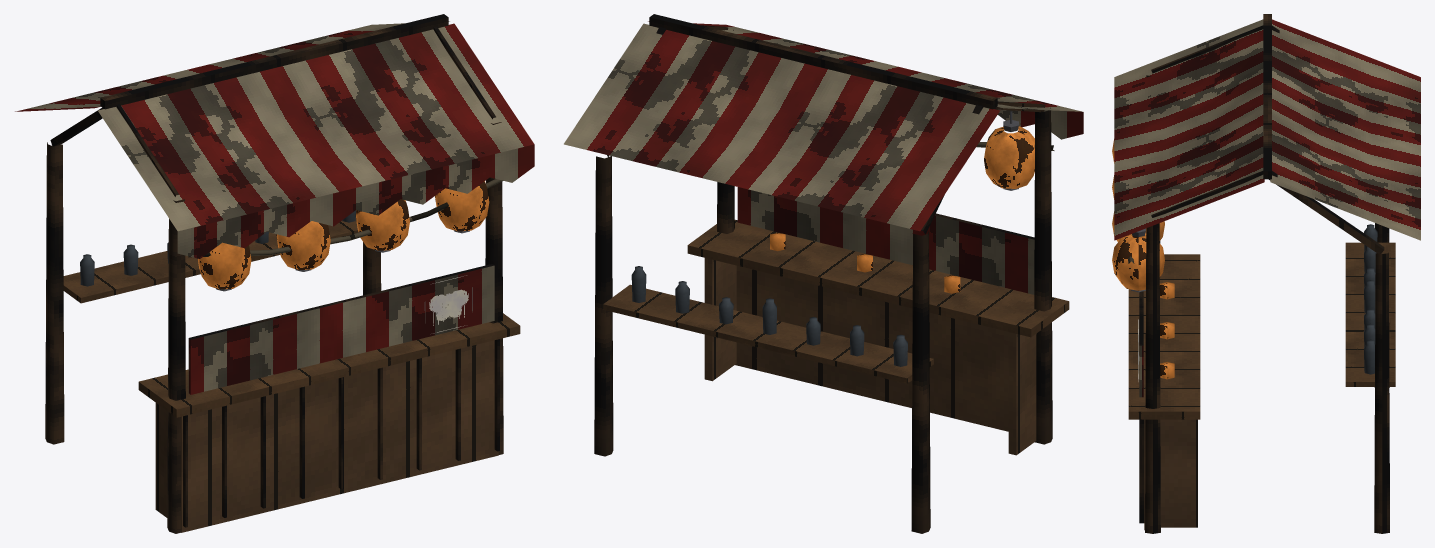
The model's file is festival_stall.glb.
3 renders of one model, left to right at view 1: azimuth 30°, elevation 25°; view 2: azimuth 150°, elevation 25°; view 3: azimuth 270°, elevation 25°, orthographic. The views are drawn at different scales.
Visible parts, largest first — view 1: detail, frame-col; view 2: detail, frame-col; view 3: detail, frame-col.
Boxes of the visible parts, bbox=[...] form: detail: bbox=[15, 14, 534, 527]; frame-col: bbox=[45, 122, 503, 533]; detail: bbox=[564, 14, 1083, 383]; frame-col: bbox=[594, 30, 1052, 533]; detail: bbox=[1112, 14, 1420, 523]; frame-col: bbox=[1144, 75, 1389, 533].
Size of what is drawn, in the model's own units: 2.7 by 2.81 by 2.16.
9 materials, 9 textured.
